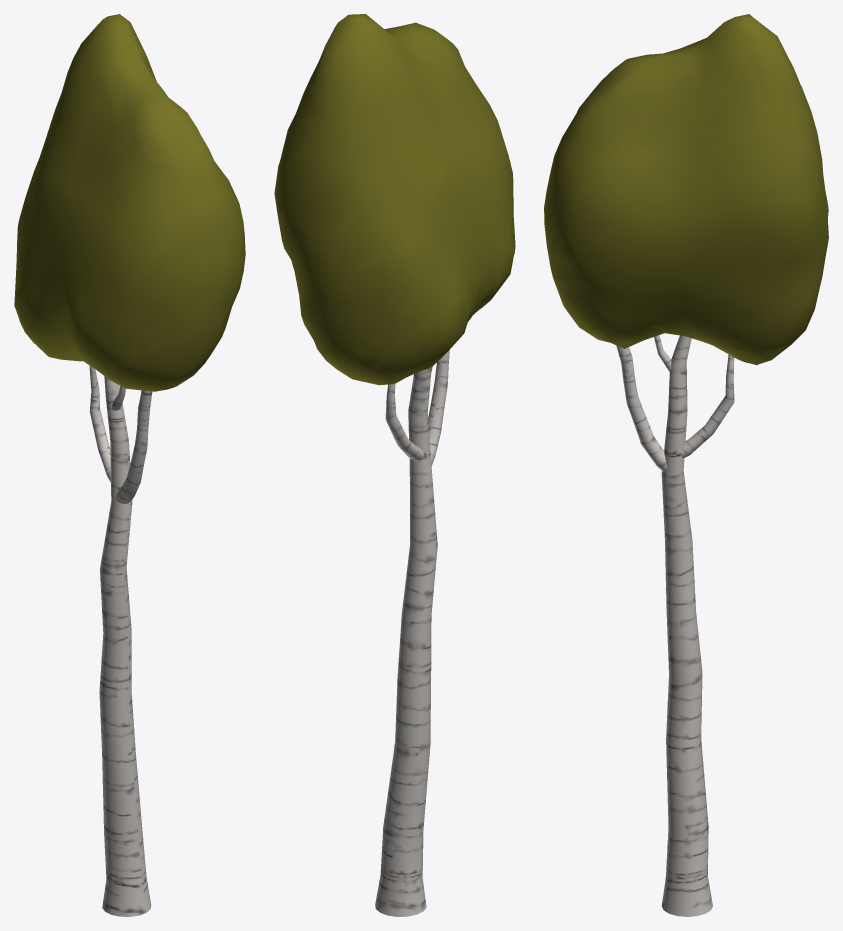
Rendered from Sm_BirchTree4L.fbx.
3 views of the same model, side by side, from view 1: azimuth 30°, elevation 25°; view 2: azimuth 150°, elevation 25°; view 3: azimuth 270°, elevation 25° (orthographic). The views are drawn at different scales.
Visible parts, largest first — view 1: Sm_BirchTree4L; view 2: Sm_BirchTree4L; view 3: Sm_BirchTree4L.
Part boxes in pixels (<box>): Sm_BirchTree4L: <box>14,14,245,916</box>; Sm_BirchTree4L: <box>274,14,515,916</box>; Sm_BirchTree4L: <box>544,14,828,916</box>.
Size of the model in its own units: 145 by 768 by 221.
